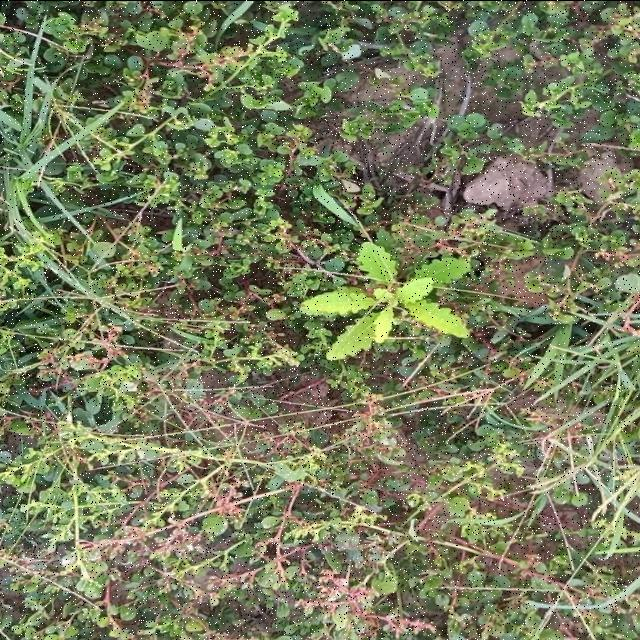weed: (300, 240, 471, 357)
